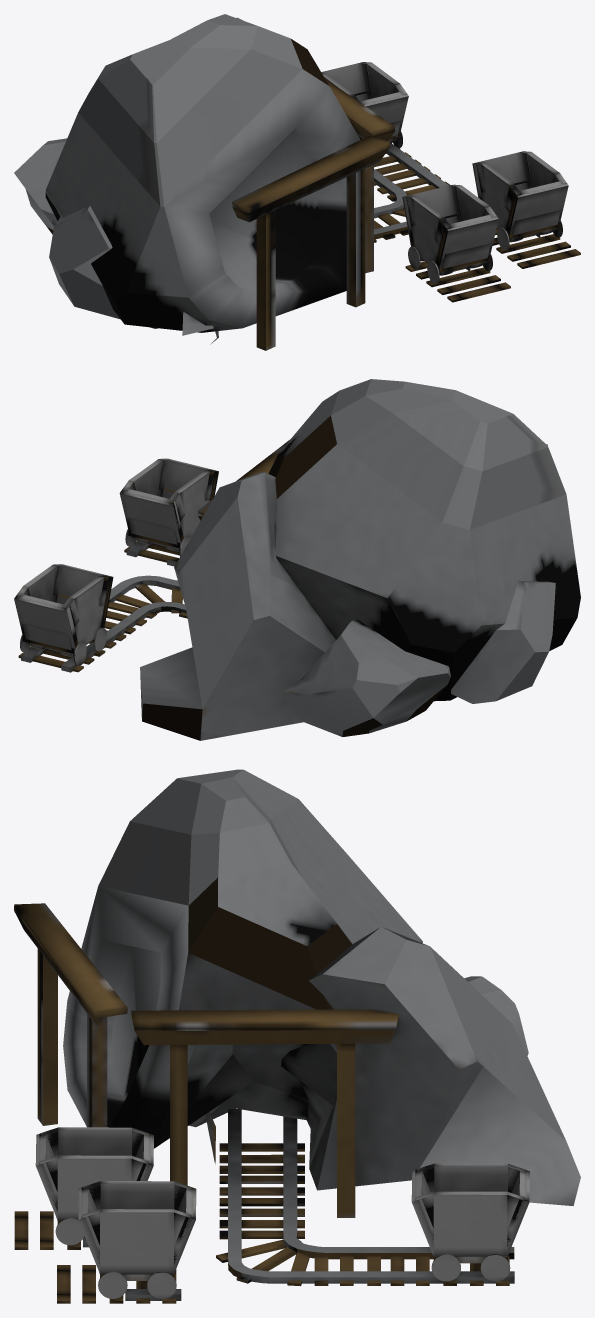
File: mine2.glb
The picture shows the model from 3 angles, top to bottom: view 1: azimuth 30°, elevation 25°; view 2: azimuth 150°, elevation 25°; view 3: azimuth 270°, elevation 25°; orthographic projection. The views are drawn at different scales.
Parts seen in each view (by area): view 1: entrance; view 2: entrance; view 3: entrance.
Boxes of the visible parts, bbox=[...] form: entrance: bbox=[14, 14, 580, 350]; entrance: bbox=[14, 379, 580, 740]; entrance: bbox=[14, 769, 580, 1303].
Size of the model in its own units: 17.67 by 10.41 by 15.37.
1 material, 1 textured.
